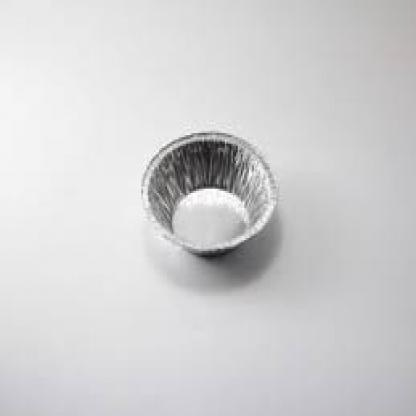Compsot: (140, 131, 276, 255)
